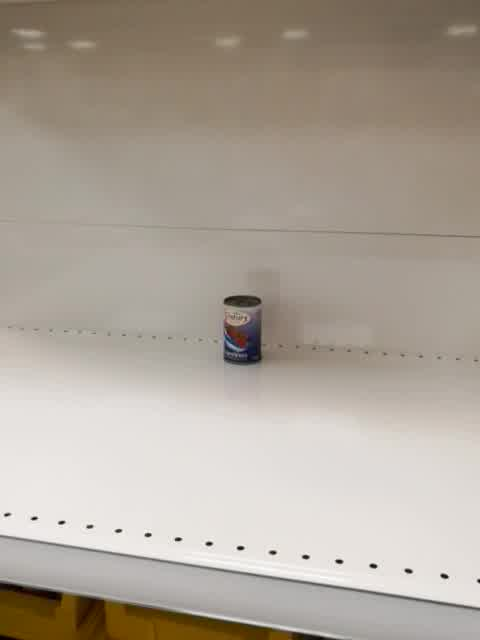sardine: (221, 295, 264, 366)
